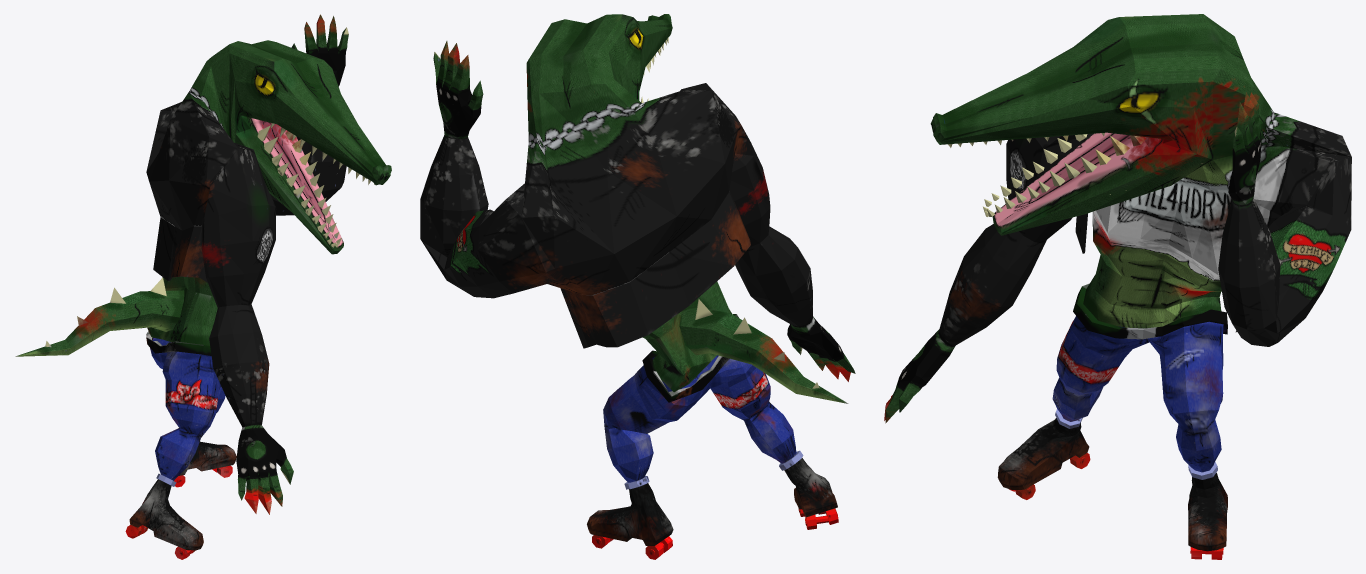
File: cocodrilaBonesSelect_000020.obj
3 renders of one model, left to right at view 1: azimuth 30°, elevation 25°; view 2: azimuth 150°, elevation 25°; view 3: azimuth 270°, elevation 25°, orthographic. The views are drawn at different scales.
Visible parts, largest first — view 1: Crocodile.002_Cylinder.002; view 2: Crocodile.002_Cylinder.002; view 3: Crocodile.002_Cylinder.002.
Boxes of the visible parts, x1,y1,x2,y2 form: Crocodile.002_Cylinder.002: [15, 14, 391, 559]; Crocodile.002_Cylinder.002: [420, 14, 855, 559]; Crocodile.002_Cylinder.002: [884, 14, 1351, 559].
Size of the model in its own units: 5.22 by 6.18 by 4.7.
